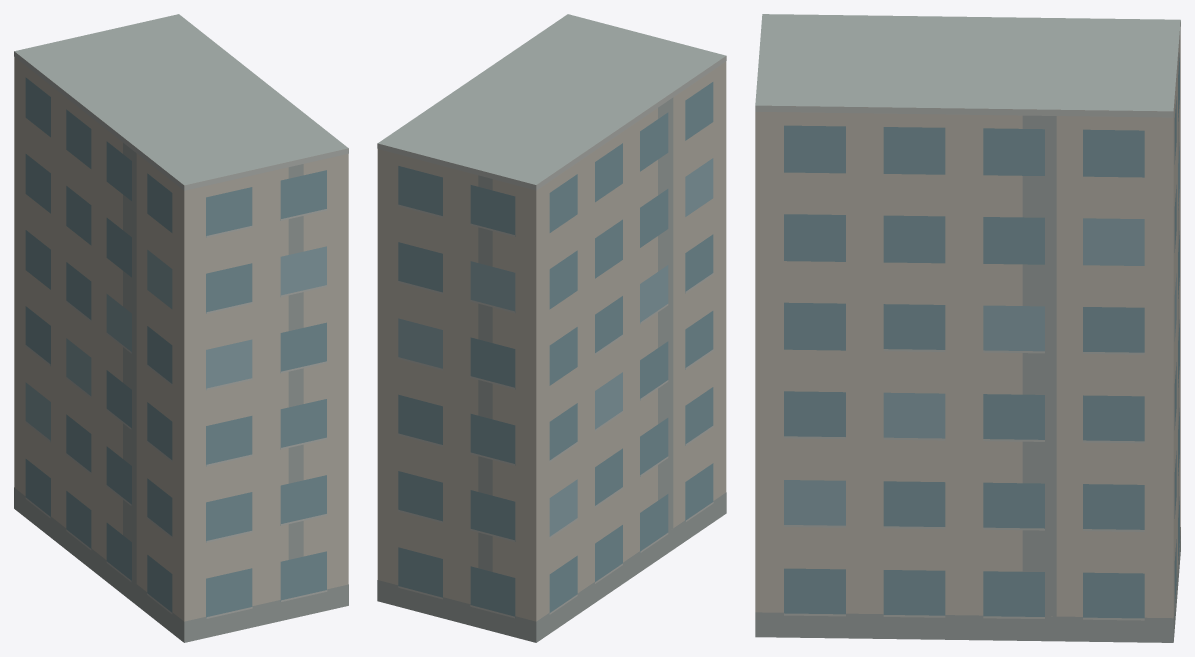
File: survey-upis-32857469.glb
The picture shows the model from 3 angles, left to right: view 1: azimuth 30°, elevation 25°; view 2: azimuth 150°, elevation 25°; view 3: azimuth 270°, elevation 25°; orthographic projection. The views are drawn at different scales.
Parts seen in each view (by area): view 1: survey-upis-32857469.tmp; view 2: survey-upis-32857469.tmp; view 3: survey-upis-32857469.tmp.
Boxes of the visible parts, x1,y1,x2,y2 form: survey-upis-32857469.tmp: (14, 14, 348, 642); survey-upis-32857469.tmp: (377, 14, 726, 642); survey-upis-32857469.tmp: (755, 14, 1180, 642).
Bounding box in the file's own units: 8.1 × 20.6 × 14.96.
